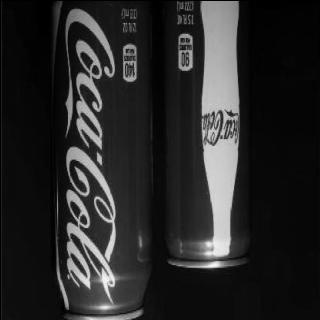alumunium_can: (48, 1, 154, 320), (160, 0, 252, 268)
